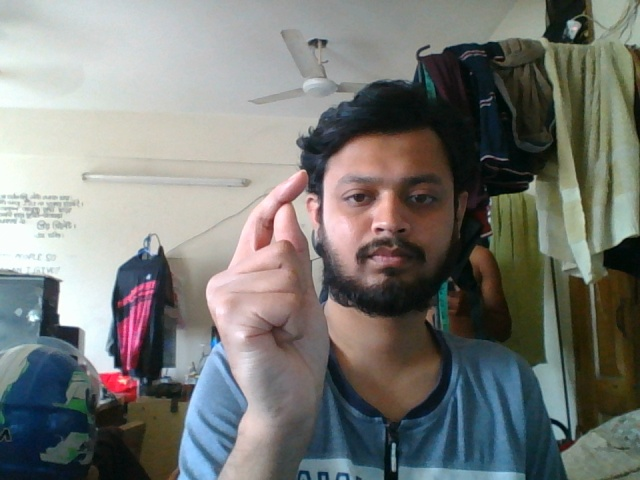tha: (199, 166, 337, 443)
